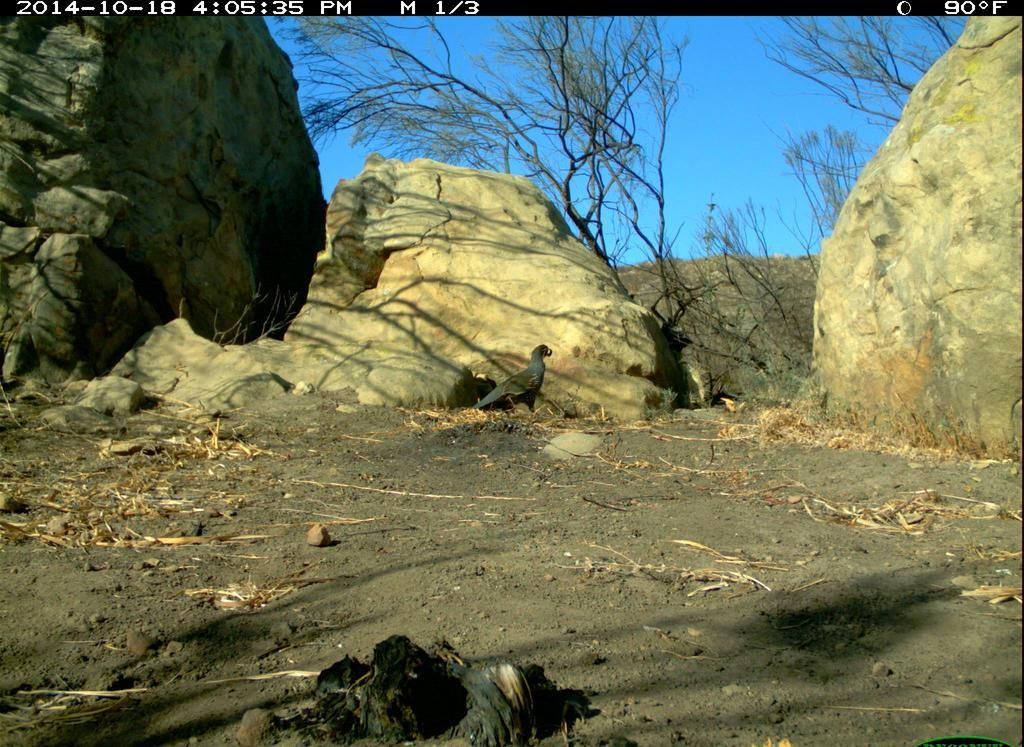bird: (470, 340, 561, 418)
